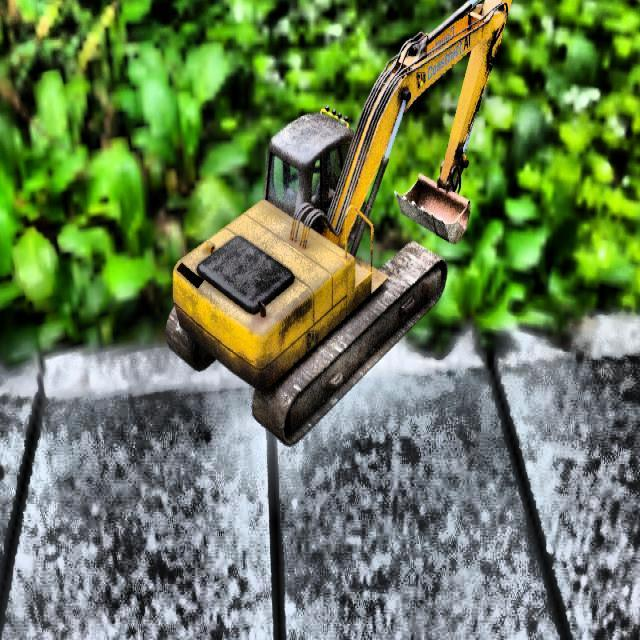excavator: (164, 0, 512, 448)
